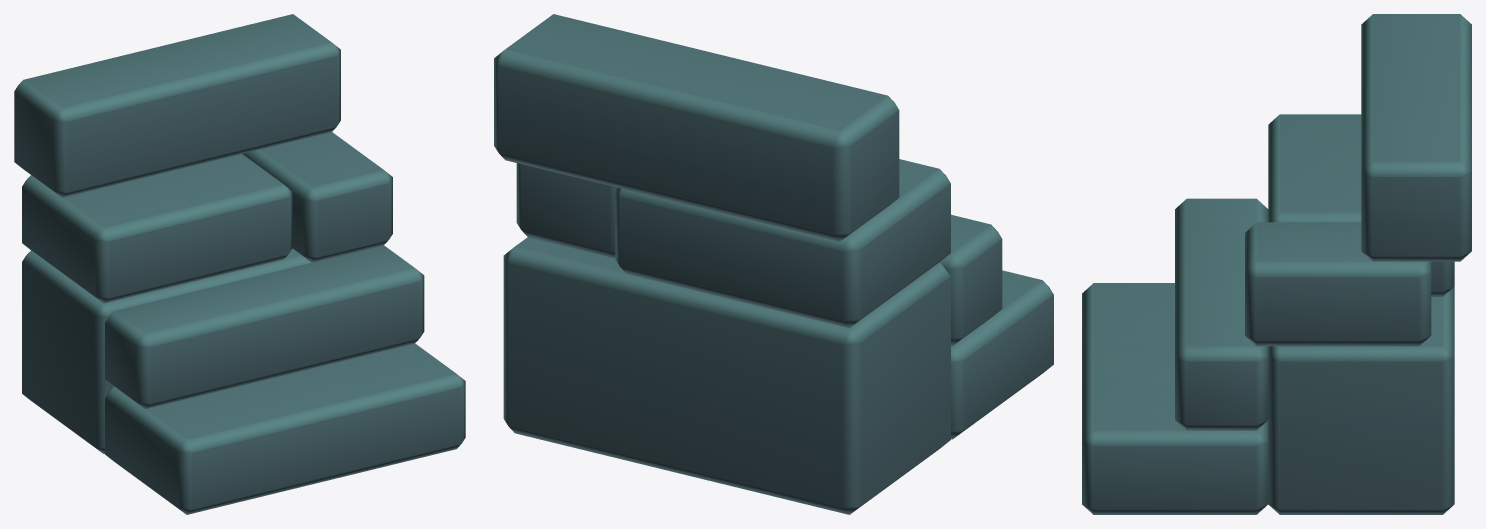
Rendered from stair_straight_1_hue_1.fbx.
The picture shows the model from 3 angles, left to right: view 1: azimuth 30°, elevation 25°; view 2: azimuth 150°, elevation 25°; view 3: azimuth 270°, elevation 25°; orthographic projection. The views are drawn at different scales.
Visible parts, largest first — view 1: stair_straight_1_hue_1; view 2: stair_straight_1_hue_1; view 3: stair_straight_1_hue_1.
Boxes of the visible parts, x1,y1,x2,y2 form: stair_straight_1_hue_1: (14,14,465,514); stair_straight_1_hue_1: (494,14,1053,514); stair_straight_1_hue_1: (1082,14,1471,514).
Size of the model in its own units: 100 by 105 by 105.
